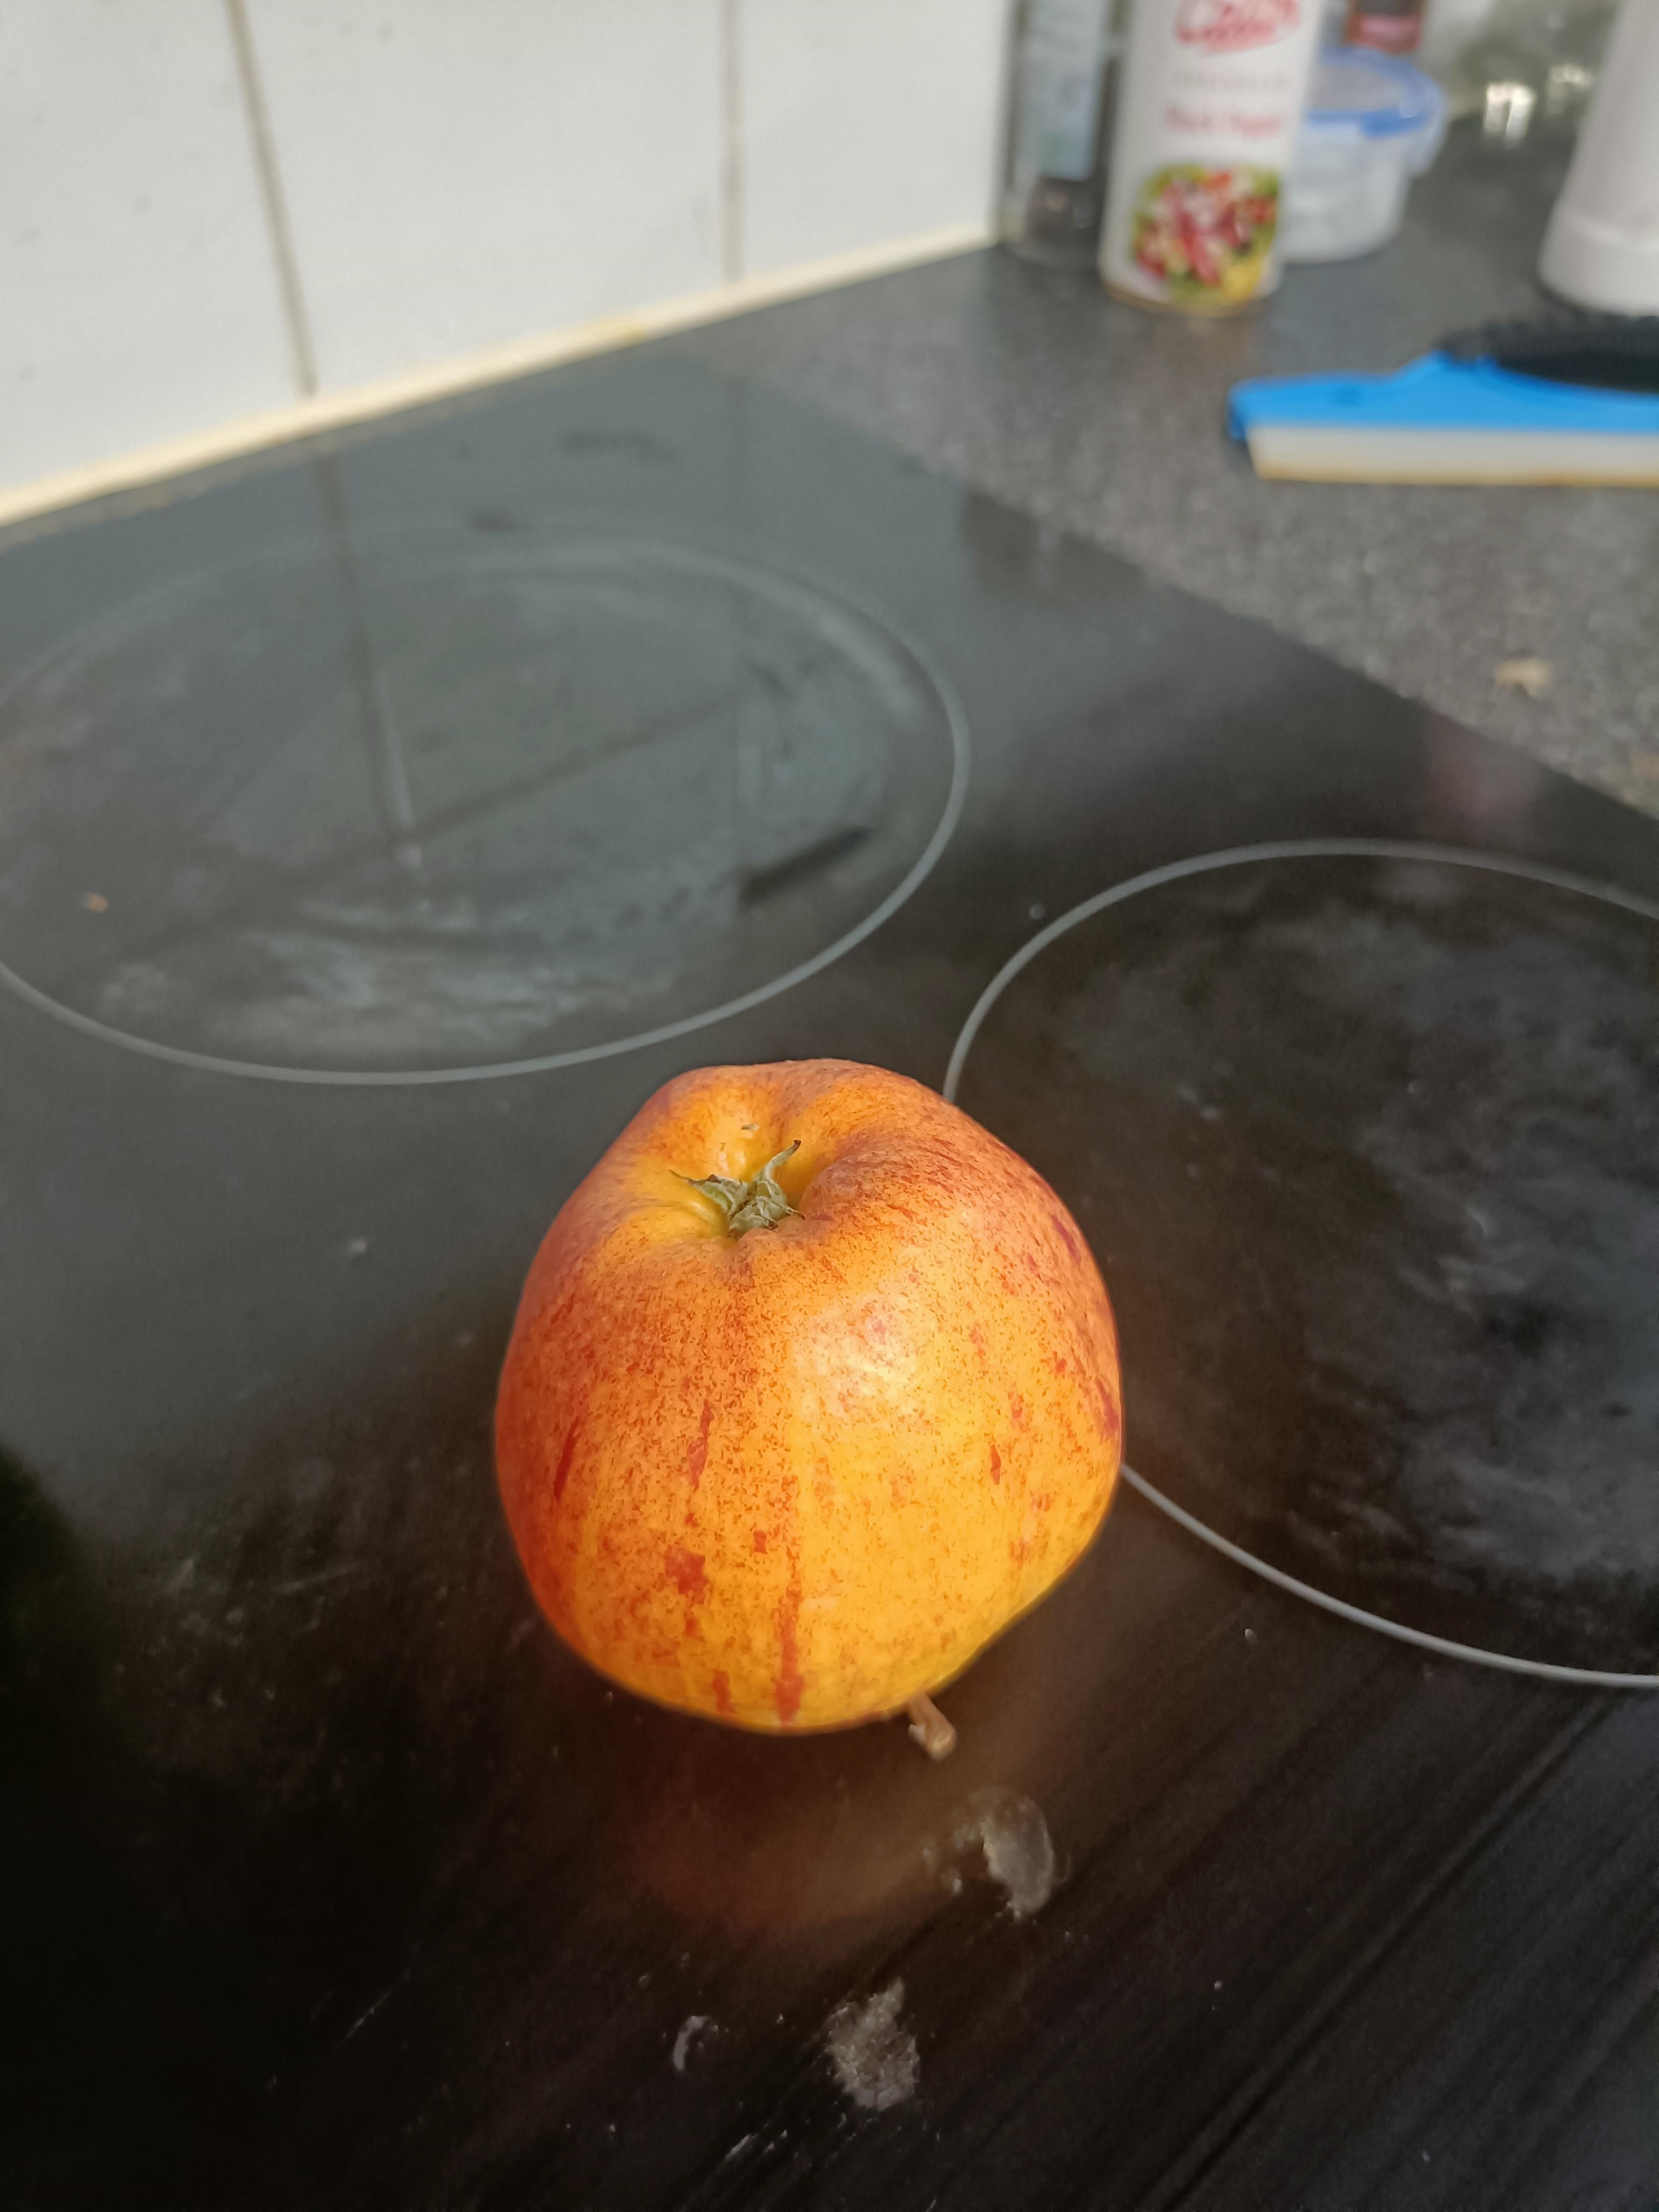Apple: (451, 1029, 1155, 1796)
